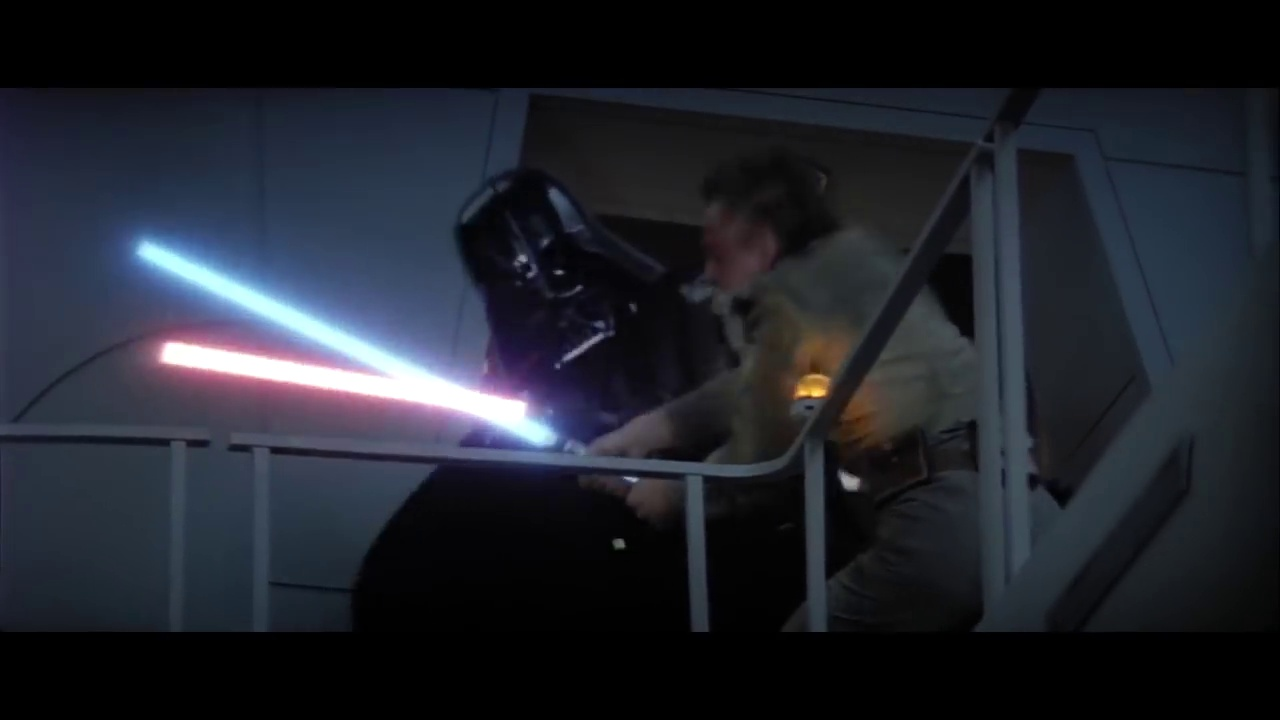lightsaber: (122, 235, 659, 508)
